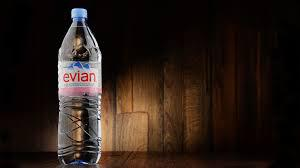Plastic: (57, 6, 105, 167)
